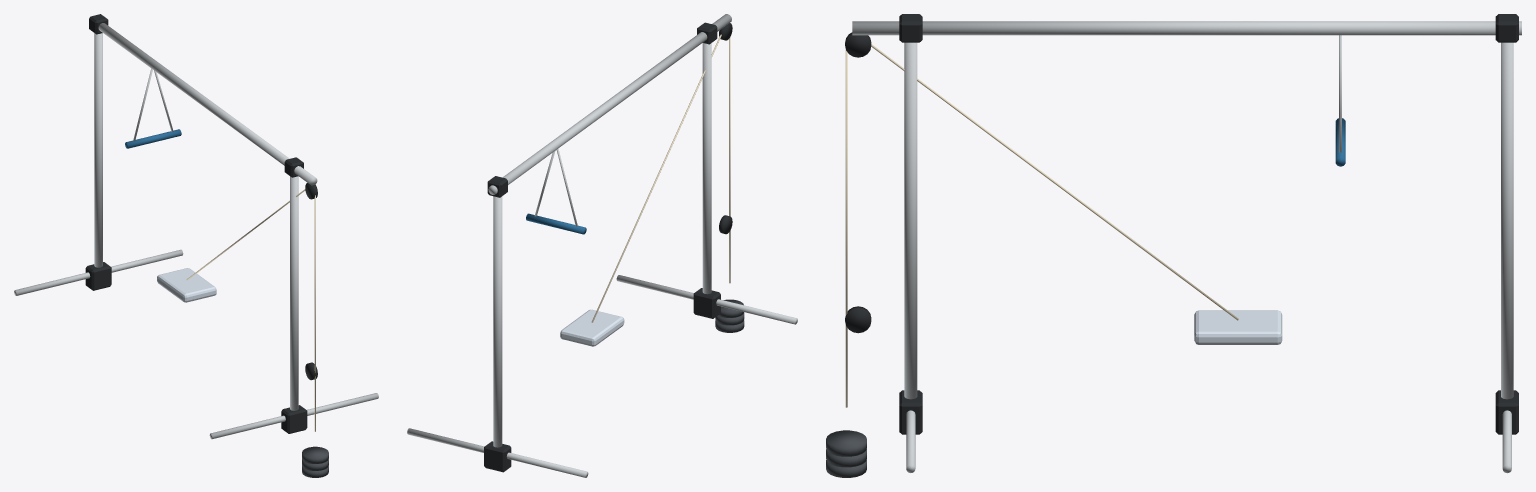
File: traction_frame.glb
The picture shows the model from 3 angles, left to right: view 1: azimuth 30°, elevation 25°; view 2: azimuth 150°, elevation 25°; view 3: azimuth 270°, elevation 25°; orthographic projection. The views are drawn at different scales.
Parts seen in each view (by area): view 1: Traction_beam, Traction_post+1, Traction_post-1, Traction_sling, Traction_cross+1, Traction_cross-1, Traction_clamp-1, Traction_clamp+1, Traction_cord1, Traction_bar, Traction_weight0; view 2: Traction_beam, Traction_post+1, Traction_post-1, Traction_sling, Traction_cross-1, Traction_cross+1, Traction_clamp-1, Traction_clamp+1, Traction_cord0, Traction_bar, Traction_cord1; view 3: Traction_beam, Traction_post-1, Traction_post+1, Traction_sling, Traction_cord0, Traction_cord1, Traction_weight0, Traction_clamp-1, Traction_clamp+1.
Boxes of the visible parts, <box> form: Traction_beam: <box>98,23,317,185</box>; Traction_post+1: <box>94,33,102,267</box>; Traction_post-1: <box>290,176,298,410</box>; Traction_sling: <box>157,268,216,302</box>; Traction_cross+1: <box>14,249,183,295</box>; Traction_cross-1: <box>209,393,378,439</box>; Traction_clamp-1: <box>281,405,307,433</box>; Traction_clamp+1: <box>85,262,111,290</box>; Traction_cord1: <box>314,195,315,431</box>; Traction_bar: <box>125,129,181,148</box>; Traction_weight0: <box>302,446,328,463</box>; Traction_beam: <box>488,14,731,194</box>; Traction_post+1: <box>493,196,502,447</box>; Traction_post-1: <box>702,43,711,294</box>; Traction_sling: <box>560,309,624,346</box>; Traction_cross-1: <box>616,275,797,324</box>; Traction_cross+1: <box>407,428,588,477</box>; Traction_clamp-1: <box>693,288,720,318</box>; Traction_clamp+1: <box>484,441,511,472</box>; Traction_cord0: <box>591,34,721,322</box>; Traction_bar: <box>526,213,586,234</box>; Traction_cord1: <box>729,37,730,283</box>; Traction_beam: <box>852,21,1521,35</box>; Traction_post-1: <box>904,42,917,399</box>; Traction_post+1: <box>1501,42,1513,399</box>; Traction_sling: <box>1194,310,1282,344</box>; Traction_cord0: <box>871,44,1238,320</box>; Traction_cord1: <box>845,49,847,407</box>; Traction_weight0: <box>826,430,866,456</box>; Traction_clamp-1: <box>899,390,922,434</box>; Traction_clamp+1: <box>1495,390,1518,434</box>.
Bounding box in the file's own units: 1 × 1.7 × 2.38.
